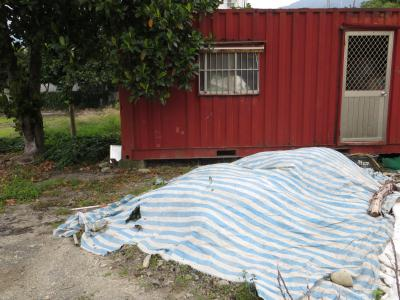plastic_bag: (75, 147, 400, 300)
